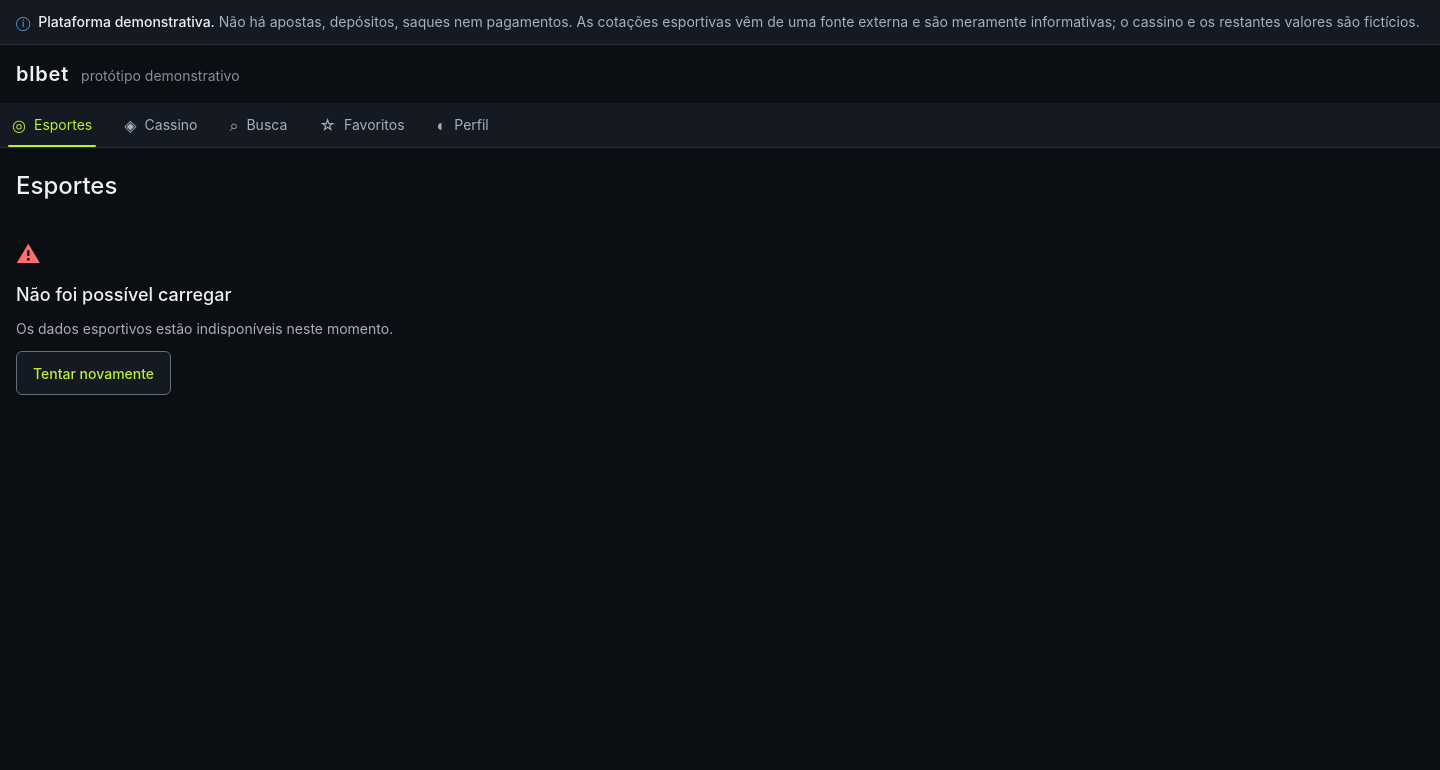
App — falha da api (RF-008) › a aplicação continua navegável com a api em baixo
The image size is (1440, 770).
Check: the message is shown, box [16,240,393,395]
Step 1. Click the link "◈ Cassino" → (161, 125), box [124,115,198,135]
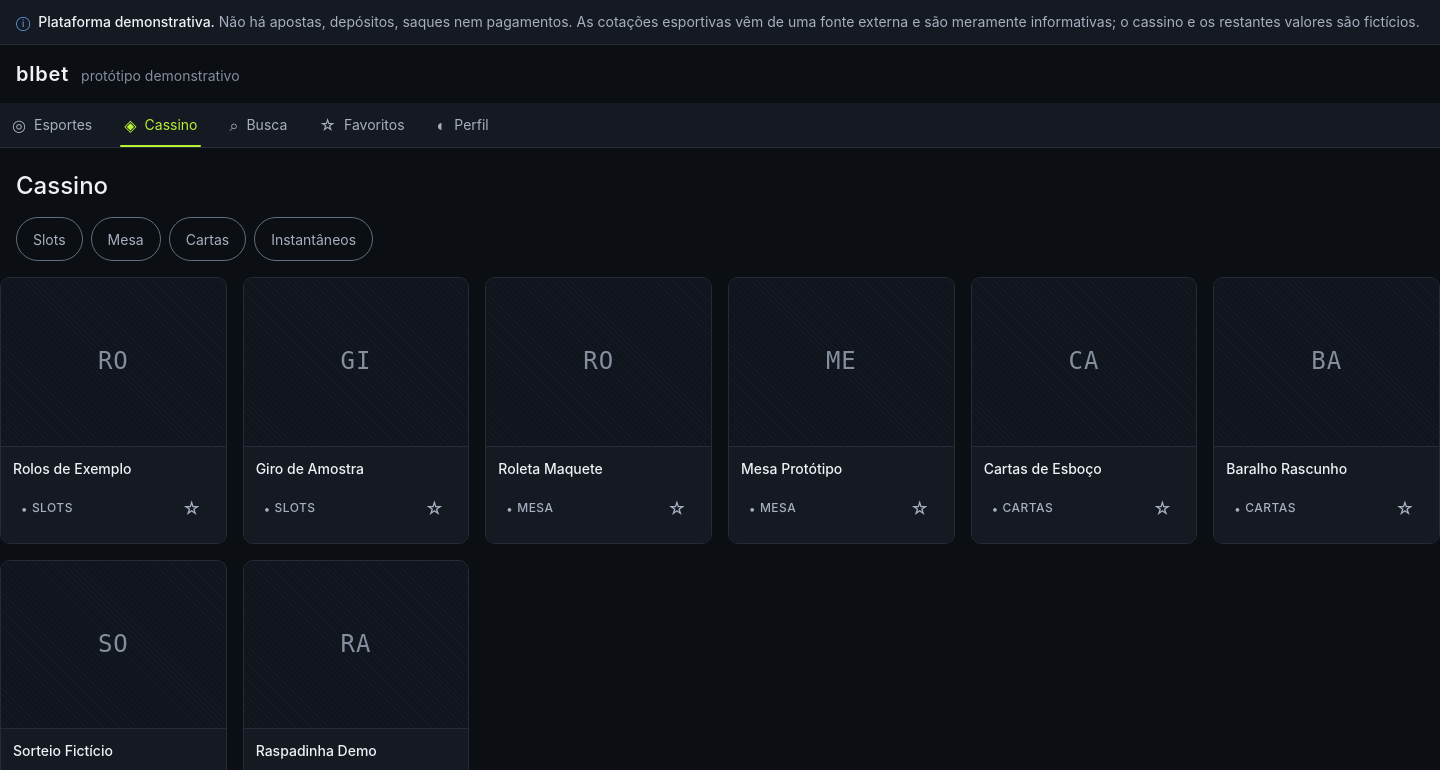
Check: the heading "Rolos de Exemplo" is shown, box [13,459,132,479]
